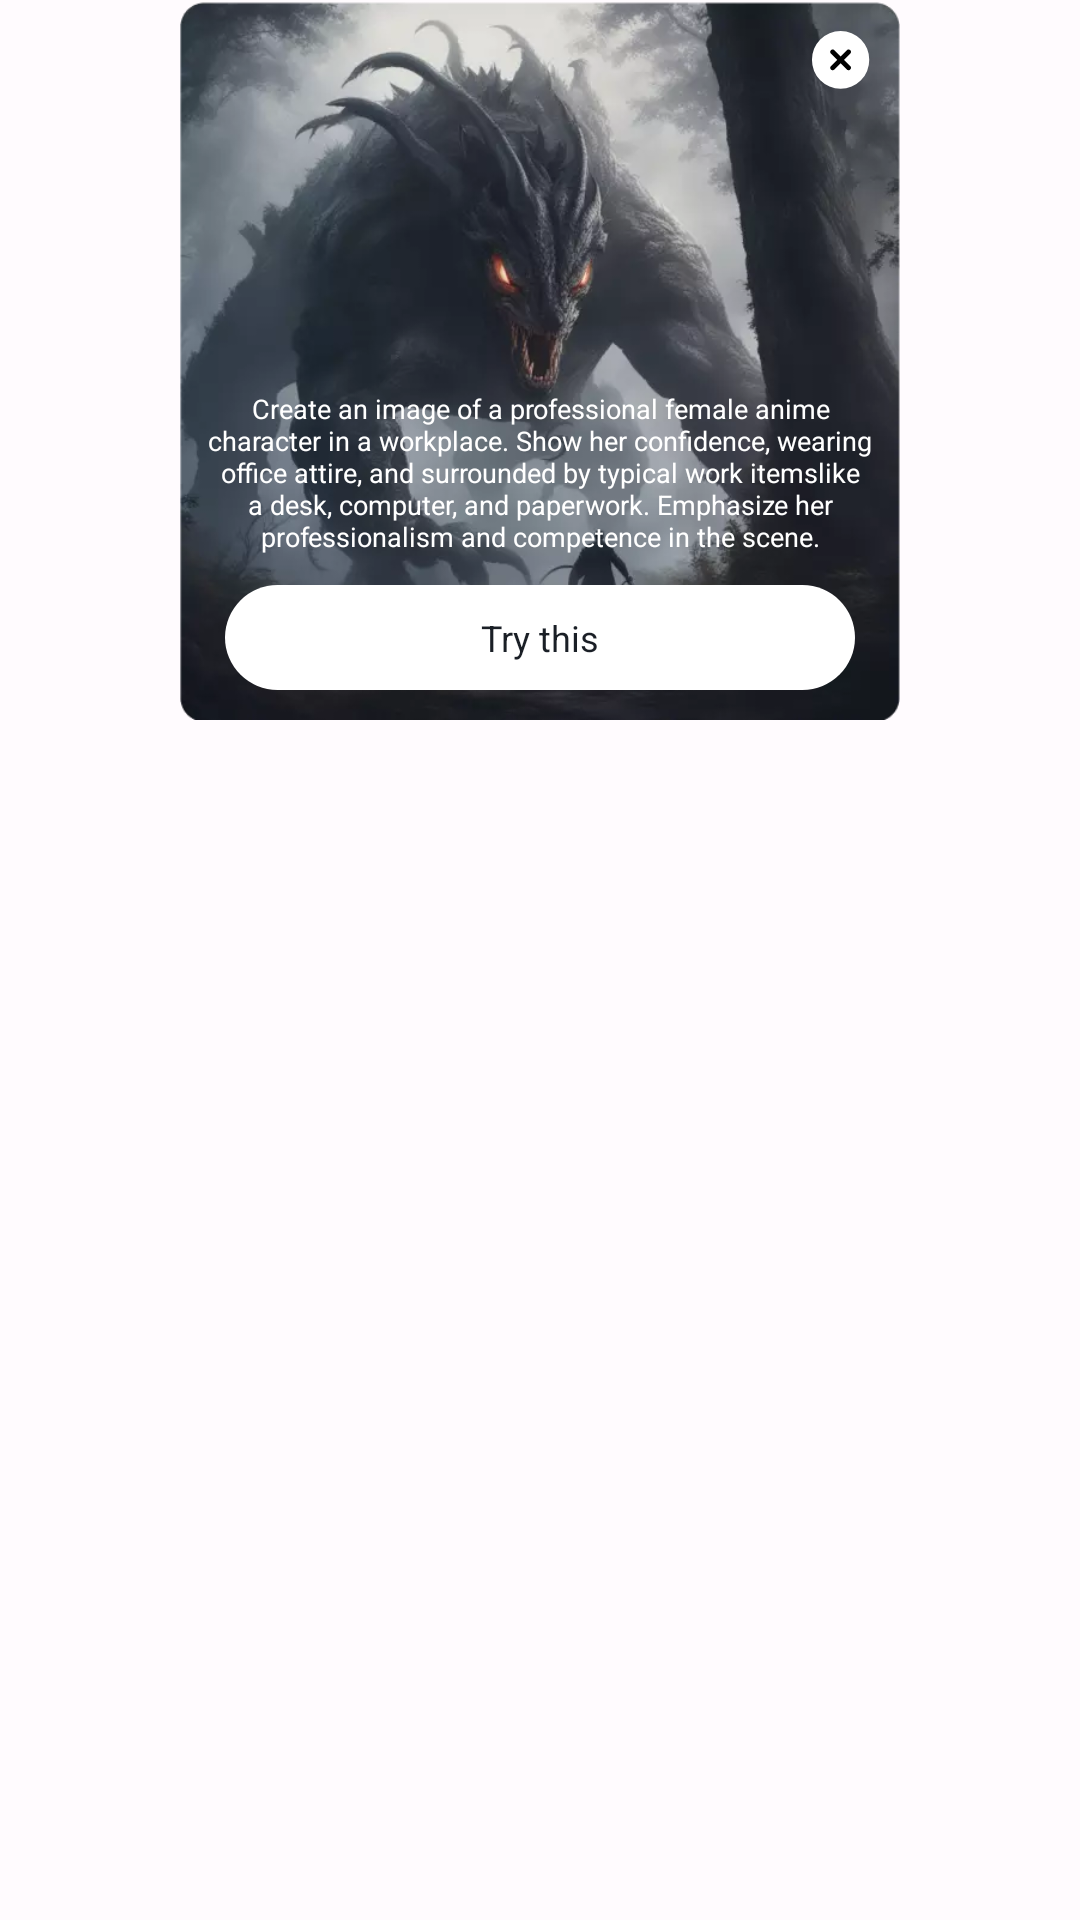

Where icons sit on this 1080px×1920px app screen, as BBox(x1, y1, x2, y2):
close: BBox(810, 30, 870, 90)
